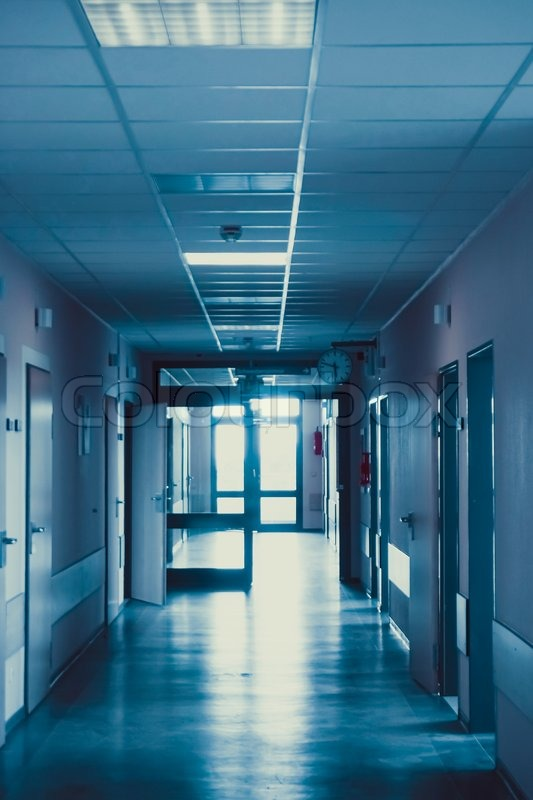door_handle: (1, 530, 18, 568), (30, 521, 46, 555), (399, 512, 415, 539), (149, 495, 161, 503), (252, 469, 255, 480)
